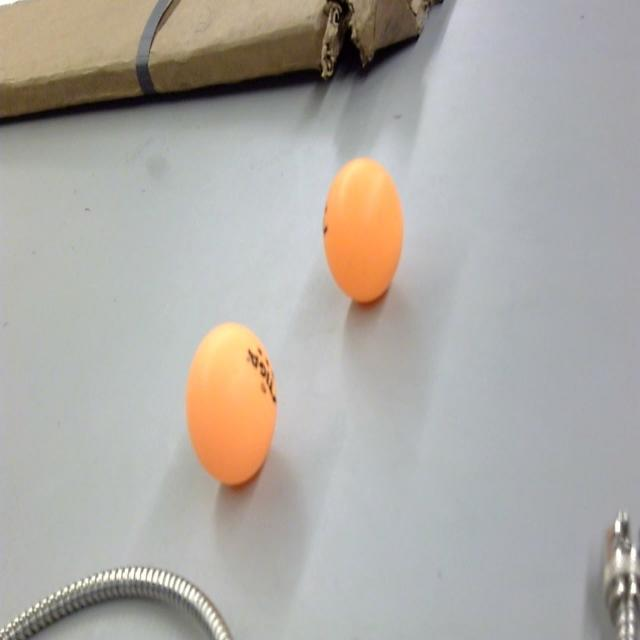ball: (185, 323, 277, 489), (322, 158, 406, 308)
